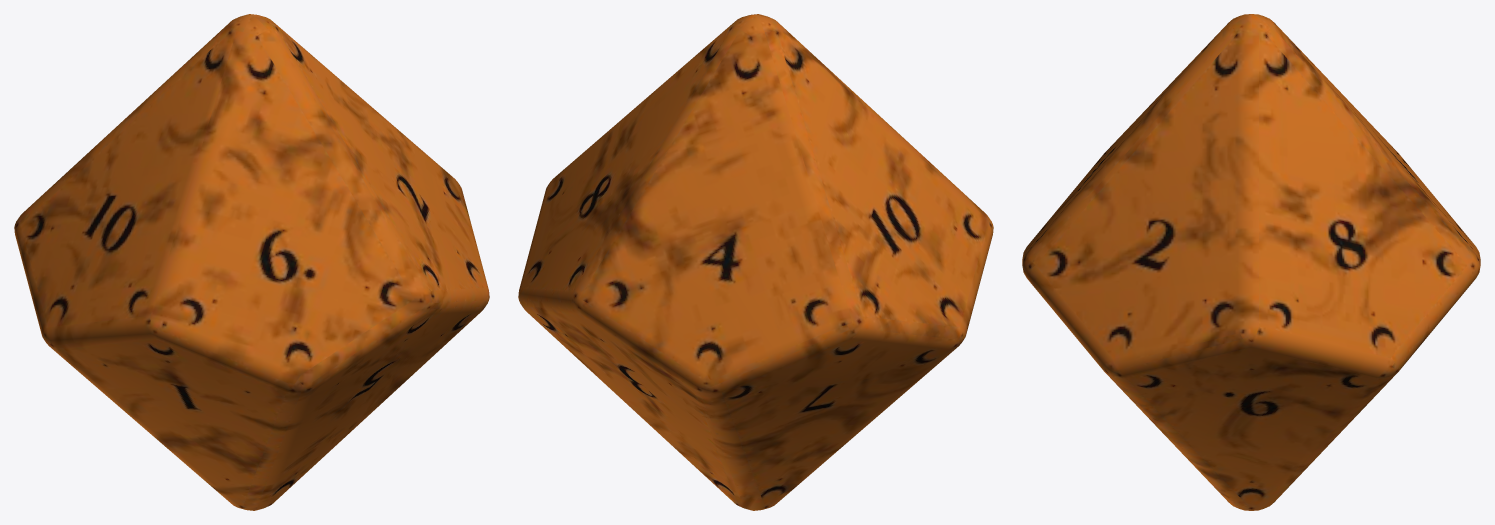
The model's file is khajiit-d10.glb.
The picture shows the model from 3 angles, left to right: view 1: azimuth 30°, elevation 25°; view 2: azimuth 150°, elevation 25°; view 3: azimuth 270°, elevation 25°; orthographic projection.
Parts seen in each view (by area): view 1: khajiit_d10; view 2: khajiit_d10; view 3: khajiit_d10.
Boxes of the visible parts, <box> form: khajiit_d10: <box>14,14,489,510</box>; khajiit_d10: <box>518,14,993,510</box>; khajiit_d10: <box>1022,14,1480,510</box>.
Bounding box in the file's own units: 1.66 × 1.91 × 1.59.
1 material, 1 textured.
